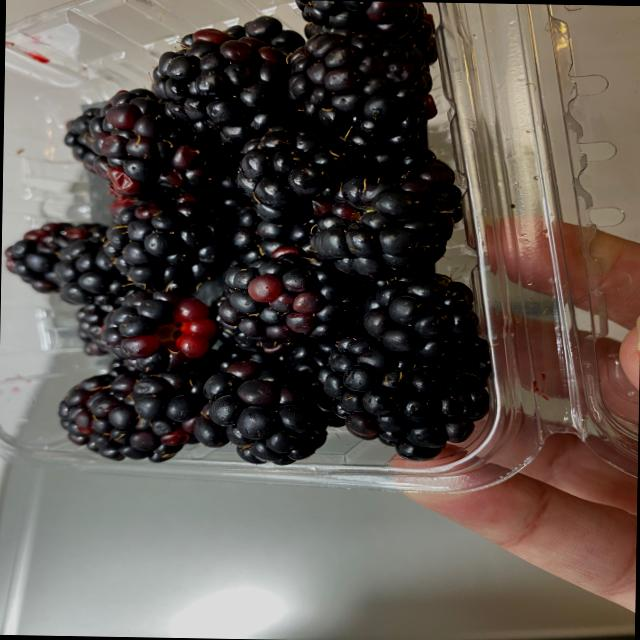blackberries: (16, 0, 500, 455)
